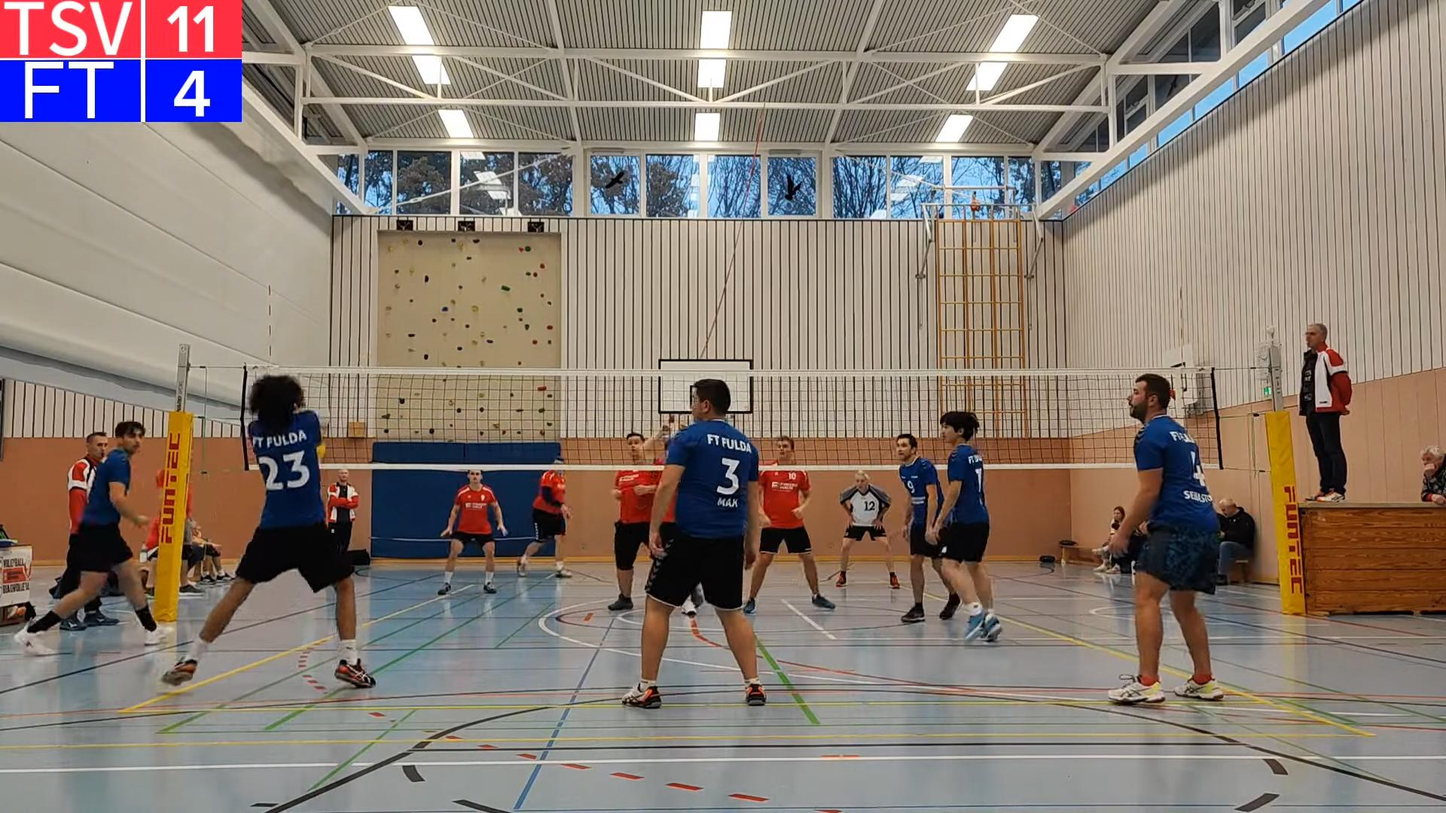Player: (622, 379, 765, 708), (1108, 374, 1224, 704), (14, 421, 164, 654), (926, 411, 1001, 641), (744, 436, 834, 614), (895, 433, 943, 623), (438, 470, 506, 595), (835, 470, 900, 589), (608, 470, 660, 611), (516, 470, 571, 577)
Receive: (162, 374, 383, 694)
